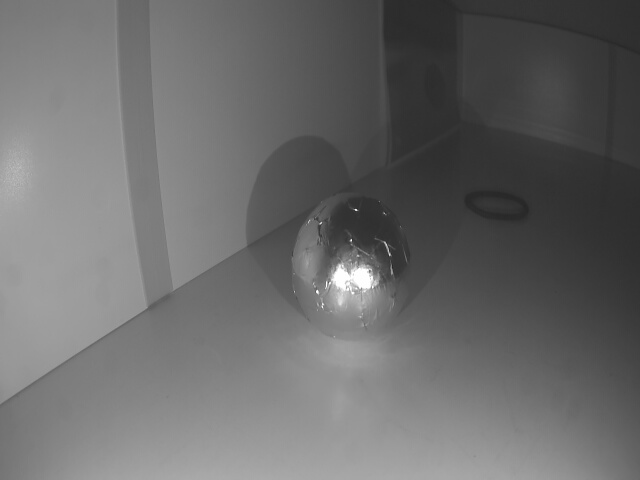Live: (291, 187, 412, 345)
